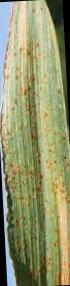Wheat: (10, 142, 69, 238), (12, 21, 54, 136)
